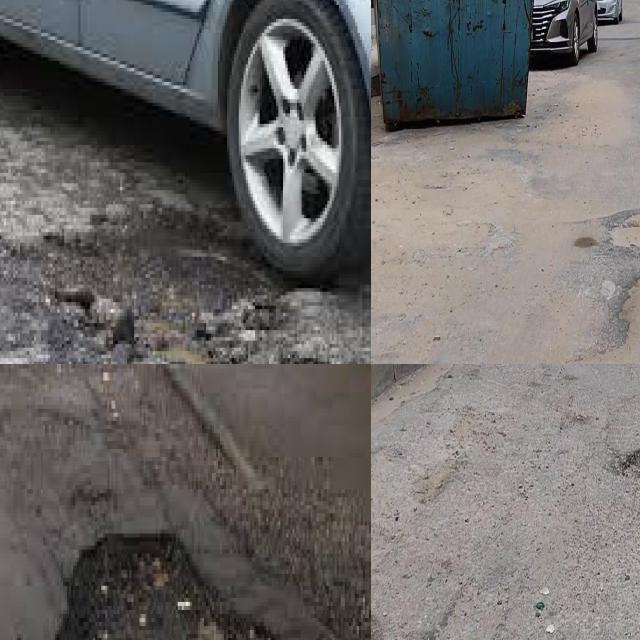Pothole: (50, 201, 295, 364), (58, 533, 350, 640), (607, 211, 640, 251)
